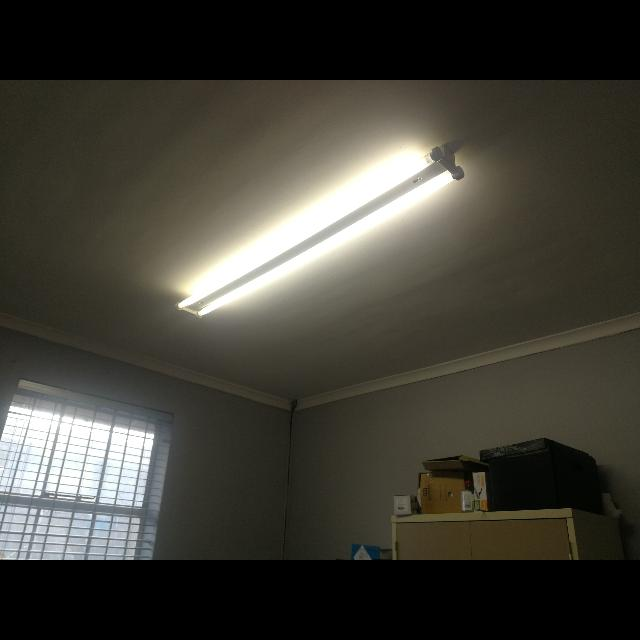Straight-Tube-Fluorescent-Lamp: (161, 140, 477, 332)
